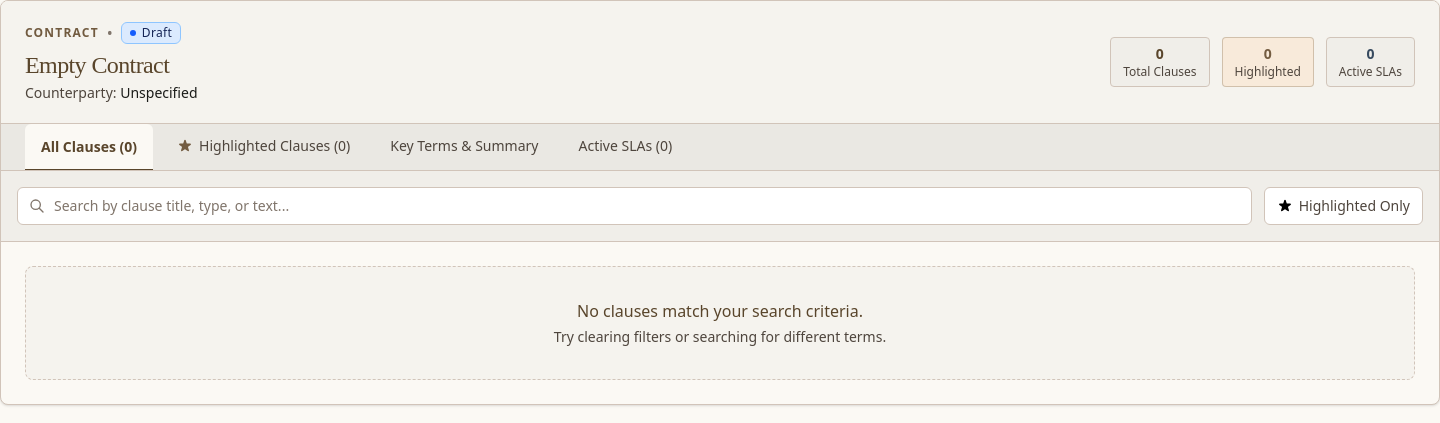
Scenario: ClauseViewer Component › renders empty states gracefully when no clauses or SLAs exist
This screenshot has width=1440, height=423.
Expected: the element with test id "no-clauses-empty-state" is shown, [25, 266, 1415, 380]
Click the tab with test id "tab-slas" at coordinates (625, 147), box [562, 124, 688, 170]
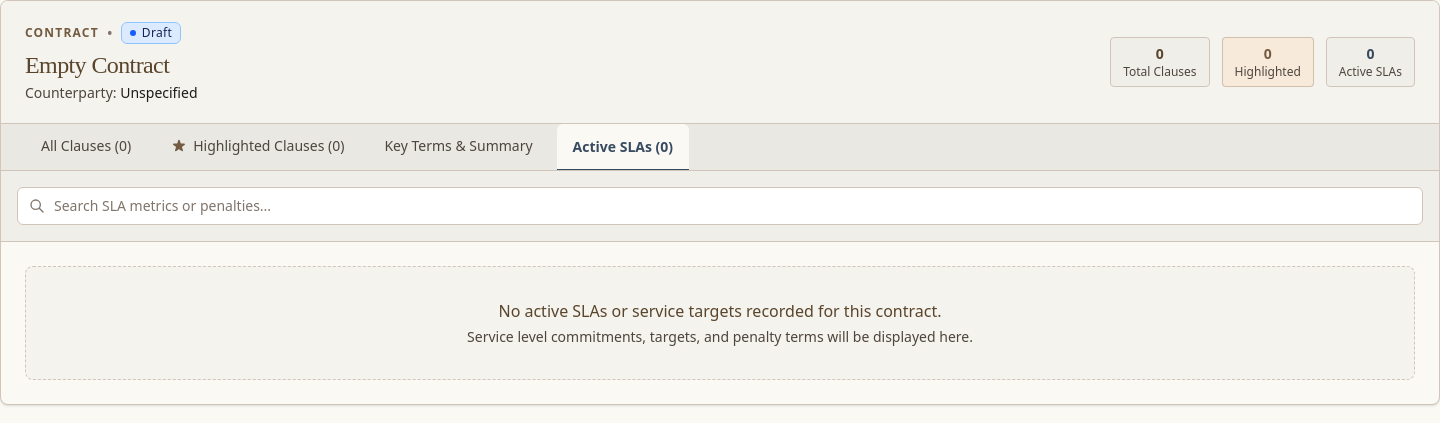
Expected: the element with test id "no-slas-empty-state" is shown, [25, 266, 1415, 380]
